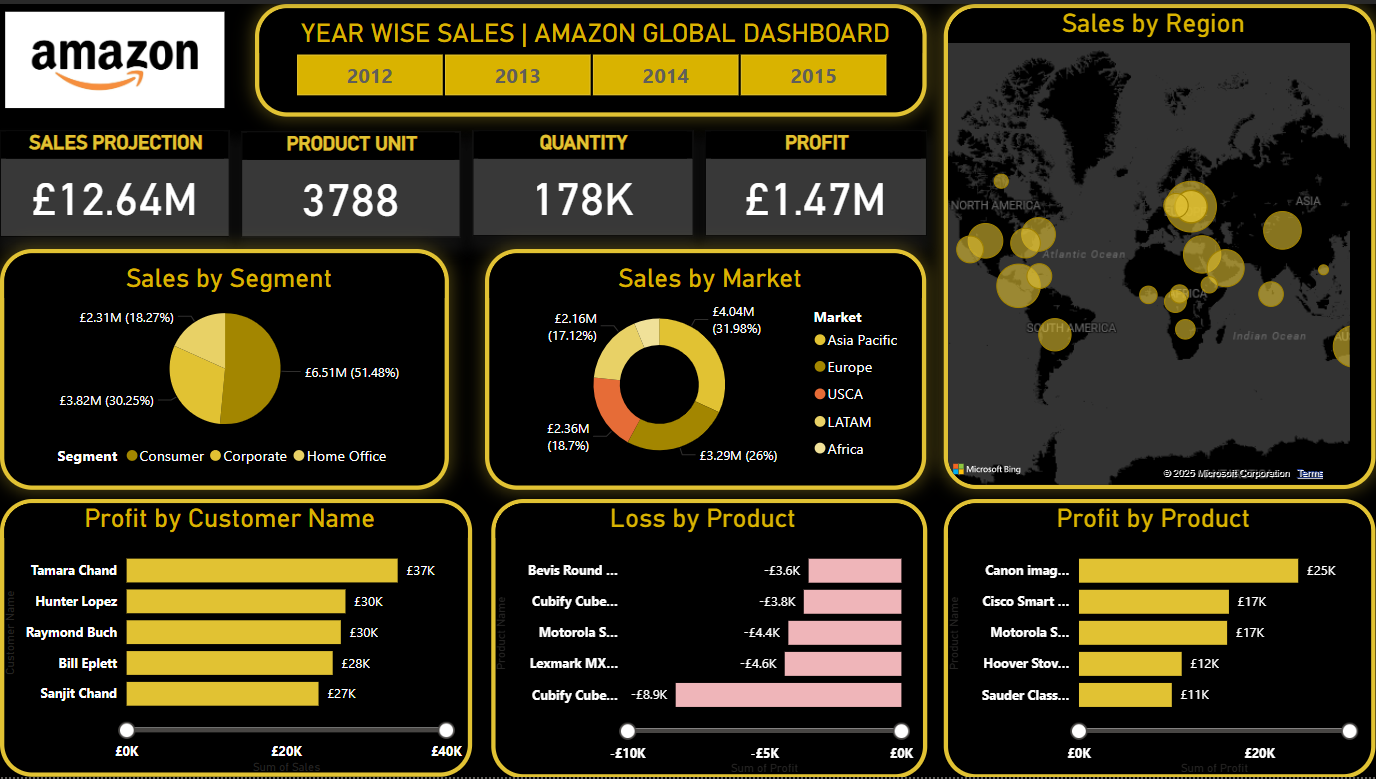

This screenshot's page, from the dashboard's own definition file:
{"tool":"powerbi","page":{"name":"Amazon Dashboard","canvas":[1280,720],"ordinal":0},"visuals":[{"type":"slicer","title":"YEAR WISE SALES | AMAZON GLOBAL DASHBOARD","fields":{"Values":["Orders.Year"]},"box":[237.6,0,624.5,104.5],"z":0},{"type":"card","title":"SALES PROJECTION","fields":{"Values":["Orders.Sales"]},"box":[0,116.9,214,99.5],"z":1000},{"type":"card","title":"PRODUCT UNIT","fields":{"Values":["Orders.Product Name"]},"box":[223.9,118.2,204,98.3],"z":2000},{"type":"card","title":"QUANTITY","fields":{"Values":["Orders.Quantity"]},"box":[439.1,116.9,205.3,98.3],"z":3000},{"type":"card","title":"PROFIT","fields":{"Values":["Orders.Profit"]},"box":[655.6,116.9,206.5,98.3],"z":4000},{"type":"pieChart","title":"Sales by Segment","fields":{"Category":["Orders.Segment"],"Y":["Orders.Sales"]},"box":[0,227.6,418,223.9],"z":5000},{"type":"donutChart","title":"Sales by Market","fields":{"Y":["Orders.Sales"],"Category":["Orders.Market"]},"box":[451.6,227.6,410.5,223.9],"z":6000},{"type":"clusteredBarChart","title":"Profit by Customer Name","fields":{"Category":["Orders.Customer Name"],"Y":["Orders.Sales"]},"box":[0,460.3,439.1,258.7],"z":7000},{"type":"clusteredBarChart","title":"Loss by Product","fields":{"Category":["Orders.Product Name"],"Y":["Orders.Profit"]},"box":[456.5,460.3,405.5,260],"z":8000},{"type":"clusteredBarChart","title":"Profit by Product","fields":{"Category":["Orders.Product Name"],"Y":["Orders.Profit"]},"box":[878.2,460.3,401.8,260],"z":9000},{"type":"image","box":[0,0,214,104.5],"z":10000},{"type":"map","title":"Sales by Region","fields":{"Category":["Orders.Region"],"Size":["Orders.Sales"]},"box":[878.2,0,401.8,451.6],"z":11000}]}

Visuals, with their boxes in screenshot pixels (x1, y1, x2, y2), scaled from the page's 1280x720 canvas onto the 1376x779 screenshot:
"YEAR WISE SALES | AMAZON GLOBAL DASHBOARD" slicer: (255, 0, 927, 113)
"SALES PROJECTION" card: (0, 126, 230, 234)
"PRODUCT UNIT" card: (241, 128, 460, 234)
"QUANTITY" card: (472, 126, 693, 233)
"PROFIT" card: (705, 126, 927, 233)
"Sales by Segment" pieChart: (0, 246, 449, 488)
"Sales by Market" donutChart: (485, 246, 927, 488)
"Profit by Customer Name" clusteredBarChart: (0, 498, 472, 778)
"Loss by Product" clusteredBarChart: (491, 498, 927, 778)
"Profit by Product" clusteredBarChart: (944, 498, 1375, 778)
image: (0, 0, 230, 113)
"Sales by Region" map: (944, 0, 1375, 489)
